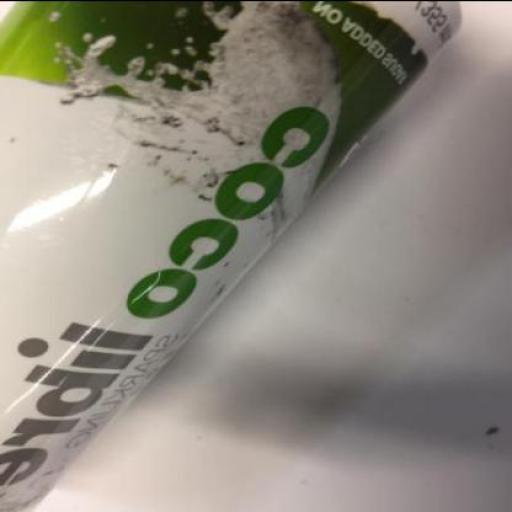metal: (0, 1, 458, 511)
